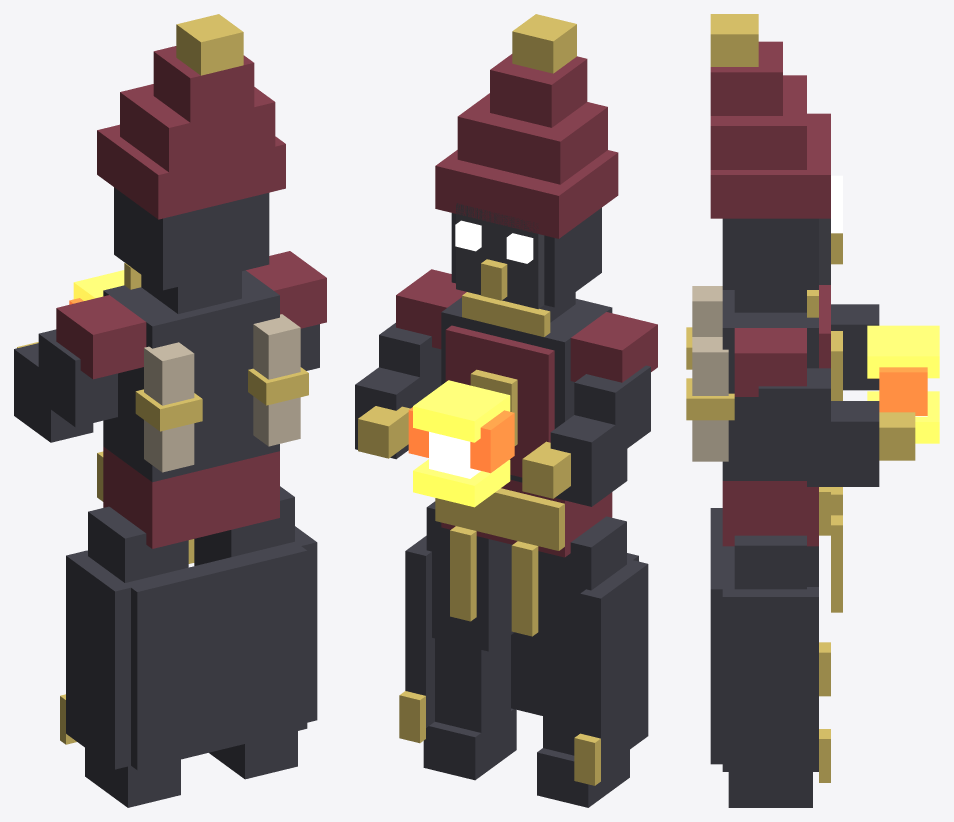
The model's file is voxel_cultist_pyromancer_64px.glb.
3 views of the same model, side by side, from view 1: azimuth 30°, elevation 25°; view 2: azimuth 150°, elevation 25°; view 3: azimuth 270°, elevation 25° (orthographic). The views are drawn at different scales.
Parts seen in each view (by area): view 1: skirt_base_rear, torso_core, skirt_base_right, pelvis_core, head_base, hood_cowl_base, hood_cowl_mid, shoulder_right, hood_cowl_tip, scroll_right, scroll_left, thigh_right (+13 smaller); view 2: skirt_base_right, hood_cowl_base, hood_cowl_mid, thigh_right, chest_robe_front, thigh_left, shin_left, hood_cowl_tip, mask_face, forearm_right, waist_sash_center, shoulder_right (+29 smaller); view 3: skirt_base_left, hood_cowl_base, head_base, torso_core, hood_cowl_mid, forearm_left, pelvis_core, upper_arm_left, shoulder_left, hood_cowl_tip, thigh_left, skirt_base_rear (+19 smaller).
Part boxes in pixels (bbox=[...]): skirt_base_rear: bbox=[125, 542, 307, 769]; torso_core: bbox=[103, 270, 279, 482]; skirt_base_right: bbox=[66, 550, 130, 769]; pelvis_core: bbox=[103, 446, 279, 548]; head_base: bbox=[114, 187, 269, 290]; hood_cowl_base: bbox=[97, 124, 285, 219]; hood_cowl_mid: bbox=[120, 84, 275, 172]; shoulder_right: bbox=[56, 295, 146, 379]; hood_cowl_tip: bbox=[153, 46, 254, 122]; scroll_right: bbox=[144, 342, 194, 472]; scroll_left: bbox=[253, 314, 300, 446]; thigh_right: bbox=[88, 506, 188, 582]; skirt_base_right: bbox=[580, 560, 648, 770]; hood_cowl_base: bbox=[435, 150, 618, 238]; hood_cowl_mid: bbox=[457, 93, 607, 184]; thigh_right: bbox=[529, 516, 626, 673]; chest_robe_front: bbox=[445, 325, 554, 477]; thigh_left: bbox=[426, 501, 514, 651]; shin_left: bbox=[435, 635, 510, 732]; hood_cowl_tip: bbox=[490, 54, 587, 127]; mask_face: bbox=[456, 203, 544, 309]; forearm_right: bbox=[550, 415, 627, 506]; waist_sash_center: bbox=[435, 488, 564, 550]; shoulder_right: bbox=[570, 312, 657, 382]; skirt_base_left: bbox=[722, 587, 818, 771]; hood_cowl_base: bbox=[710, 113, 830, 218]; head_base: bbox=[722, 218, 818, 289]; torso_core: bbox=[722, 290, 818, 480]; hood_cowl_mid: bbox=[710, 75, 806, 169]; forearm_left: bbox=[807, 401, 879, 486]; pelvis_core: bbox=[722, 481, 818, 546]; upper_arm_left: bbox=[758, 368, 830, 454]; shoulder_left: bbox=[734, 328, 806, 396]; hood_cowl_tip: bbox=[710, 41, 782, 115]; thigh_left: bbox=[734, 535, 806, 589]; skirt_base_rear: bbox=[710, 508, 734, 764].
Bounding box in the file's own units: 0.7188 × 2.12 × 0.6563.
